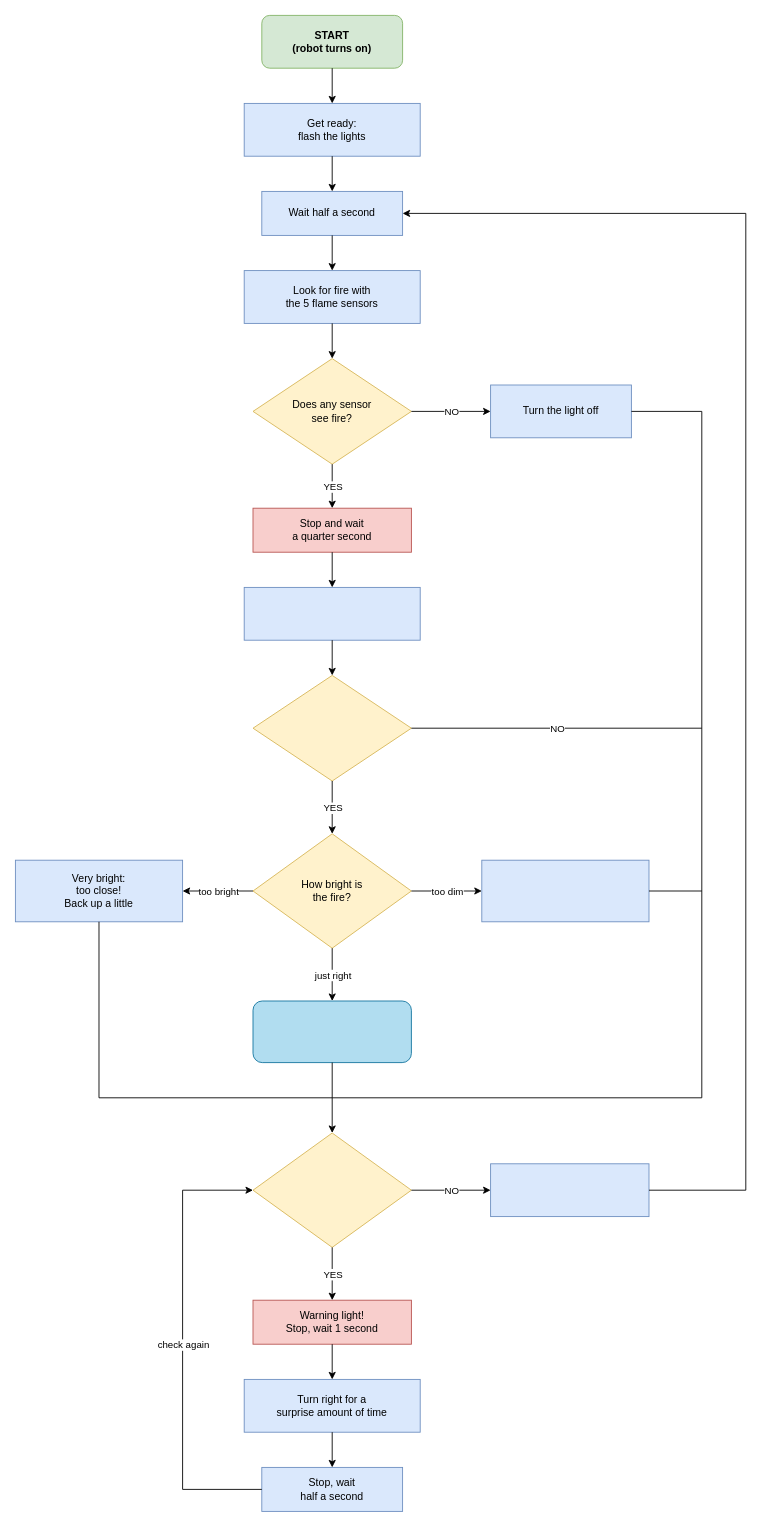
The diagram is 768 pixels wide and 1527 high, and some of its shapes have lost their labels. The centre of each missing label's shape, as x and y in pixels:
Dim: too far! Move forward a little: (565,890)
Is something closer than 11 cm?: (331,1189)
Is the fire straight ahead?: (331,728)
Just right: SPRAY WATER! (see spray diagram): (331,1031)
Light off, drive forward: (569,1190)
Turn toward the fire (like the Nov 8 robot): (331,613)
